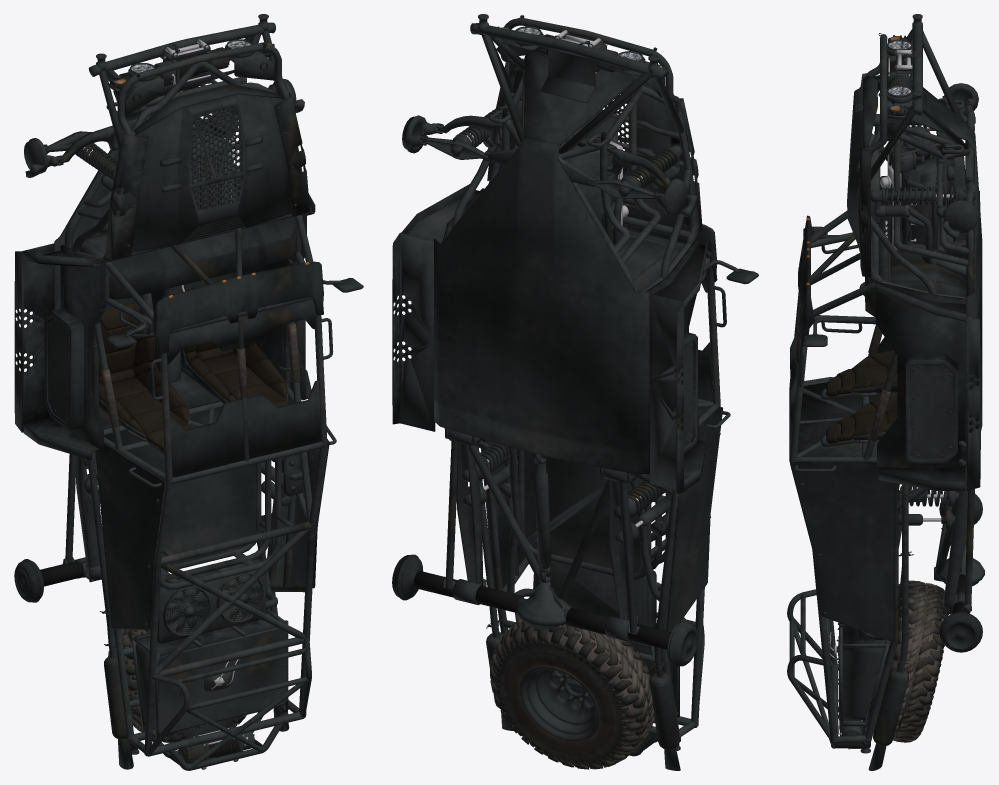
The model's file is FAV.obj.
3 views of the same model, side by side, from view 1: azimuth 30°, elevation 25°; view 2: azimuth 150°, elevation 25°; view 3: azimuth 270°, elevation 25° (orthographic). The views are drawn at different scales.
Parts seen in each view (by area): view 1: fav_316958.Shape_fav_316958.002; view 2: fav_316958.Shape_fav_316958.002; view 3: fav_316958.Shape_fav_316958.002.
Boxes of the visible parts, x1,y1,x2,y2 form: fav_316958.Shape_fav_316958.002: [14, 14, 363, 770]; fav_316958.Shape_fav_316958.002: [392, 14, 758, 770]; fav_316958.Shape_fav_316958.002: [787, 14, 984, 770].
Size of the model in its own units: 2.21 by 5.4 by 1.41.
Materials: 22 (22 with a texture image).
